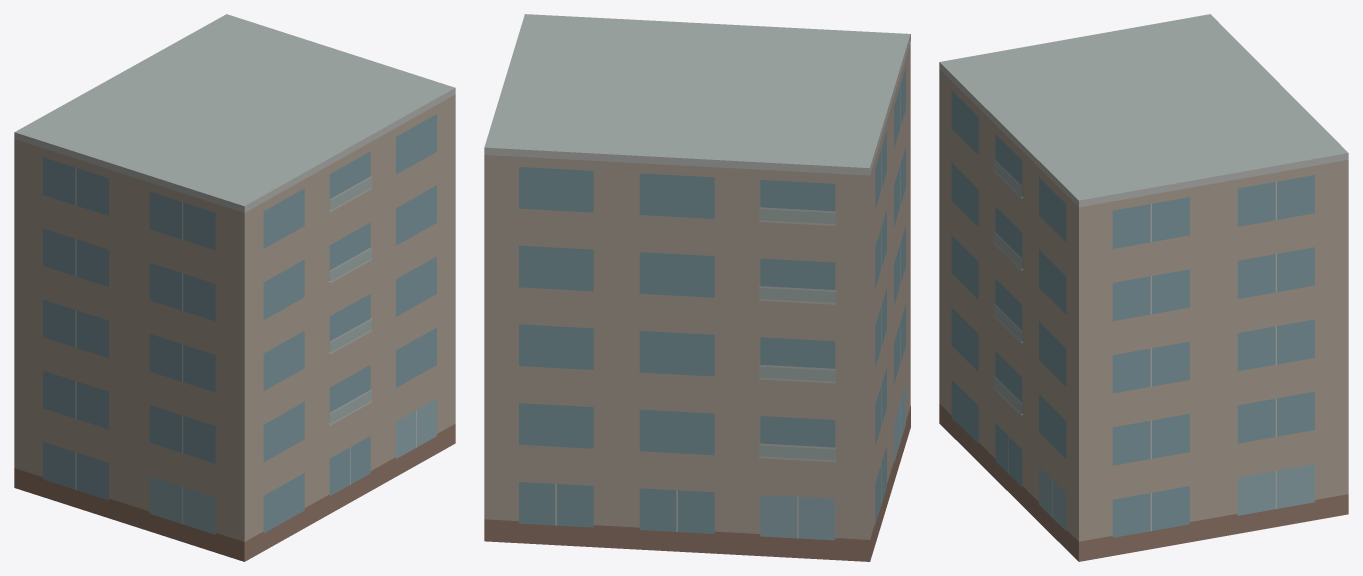
Rendered from survey-upis-32951277.glb.
3 renders of one model, left to right at view 1: azimuth 30°, elevation 25°; view 2: azimuth 150°, elevation 25°; view 3: azimuth 270°, elevation 25°, orthographic. The views are drawn at different scales.
Parts seen in each view (by area): view 1: survey-upis-32951277.tmp; view 2: survey-upis-32951277.tmp; view 3: survey-upis-32951277.tmp.
Part boxes in pixels (left/top/right/bottom): survey-upis-32951277.tmp: left=14, top=14, right=455, bottom=561; survey-upis-32951277.tmp: left=484, top=14, right=910, bottom=561; survey-upis-32951277.tmp: left=939, top=14, right=1348, bottom=561.
Size of the model in its own units: 14.41 by 13 by 13.36.
